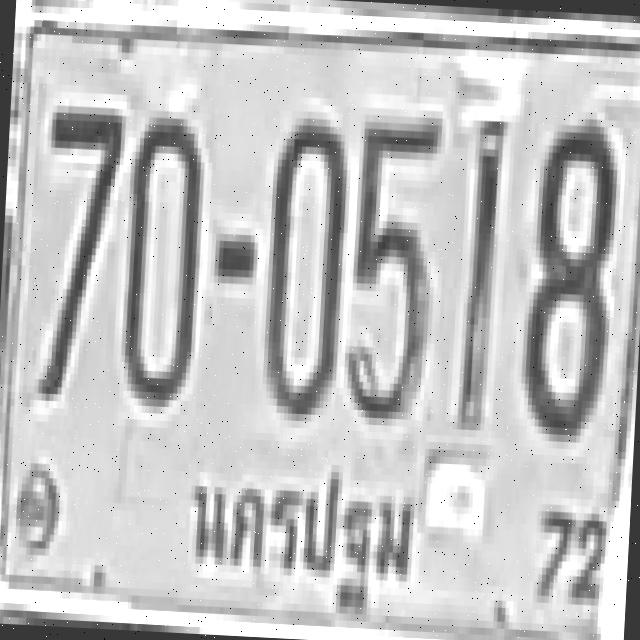0: (258, 110, 346, 416), (119, 109, 204, 401)
1: (455, 124, 502, 428)
5: (340, 104, 437, 416)
7: (34, 98, 123, 397)
8: (520, 113, 616, 433)
NakhonPathom: (172, 443, 424, 625)
